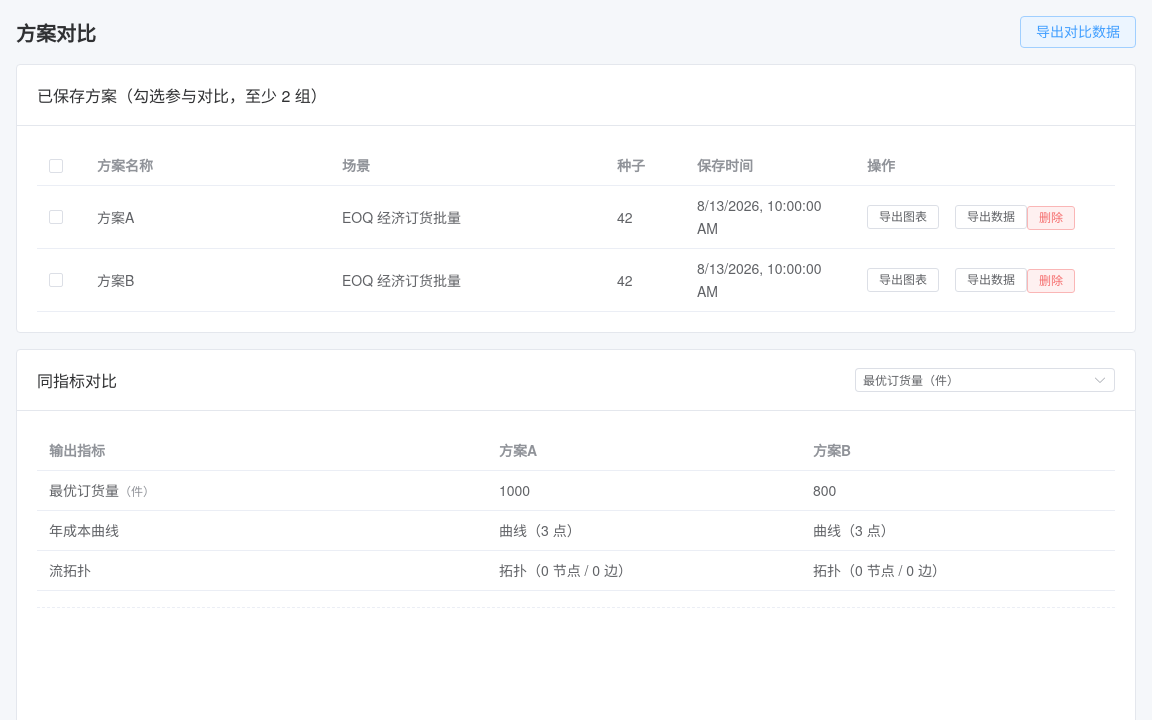
Test: CompareView（T038） › 取消勾选至不足 2 组：提示「请勾选至少 2 组方案」且隐藏对比区
This screenshot has width=1152, height=720.
What coordinates should you click on to do the following:
click the 2nd checkbox
I would click on:
 (56, 217)
Its box is [49,210,63,224].
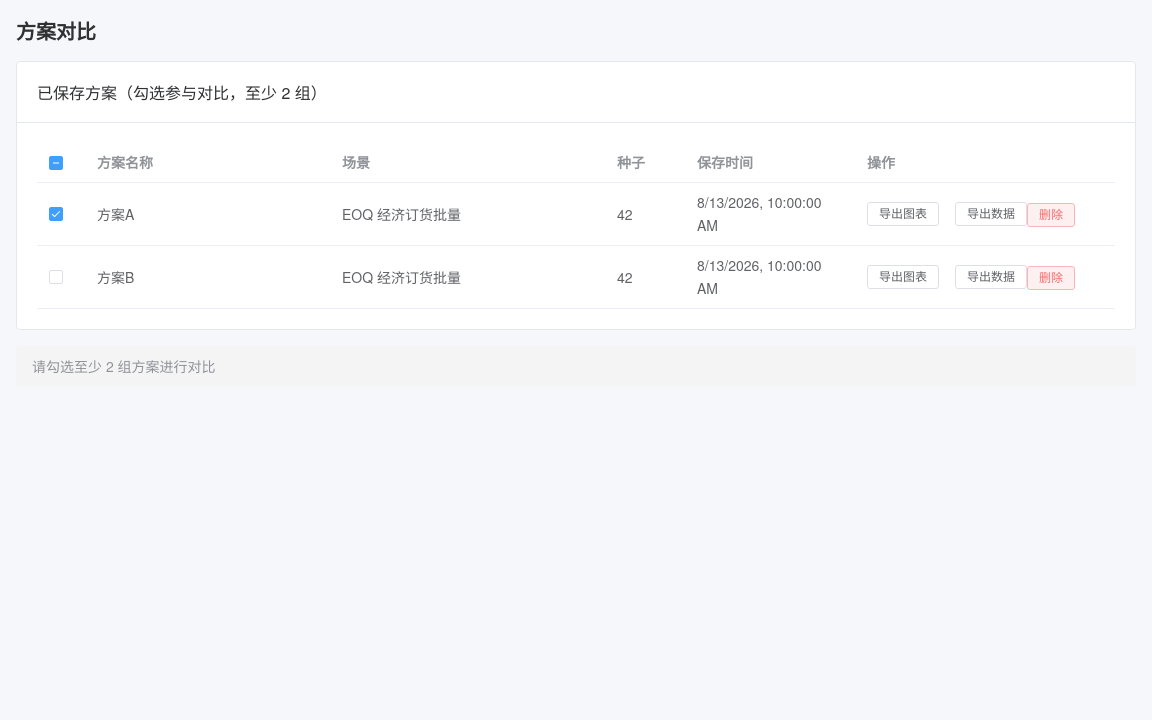
Now the element with test id "compare-need-two" is shown, box [16,346,1136,386]
